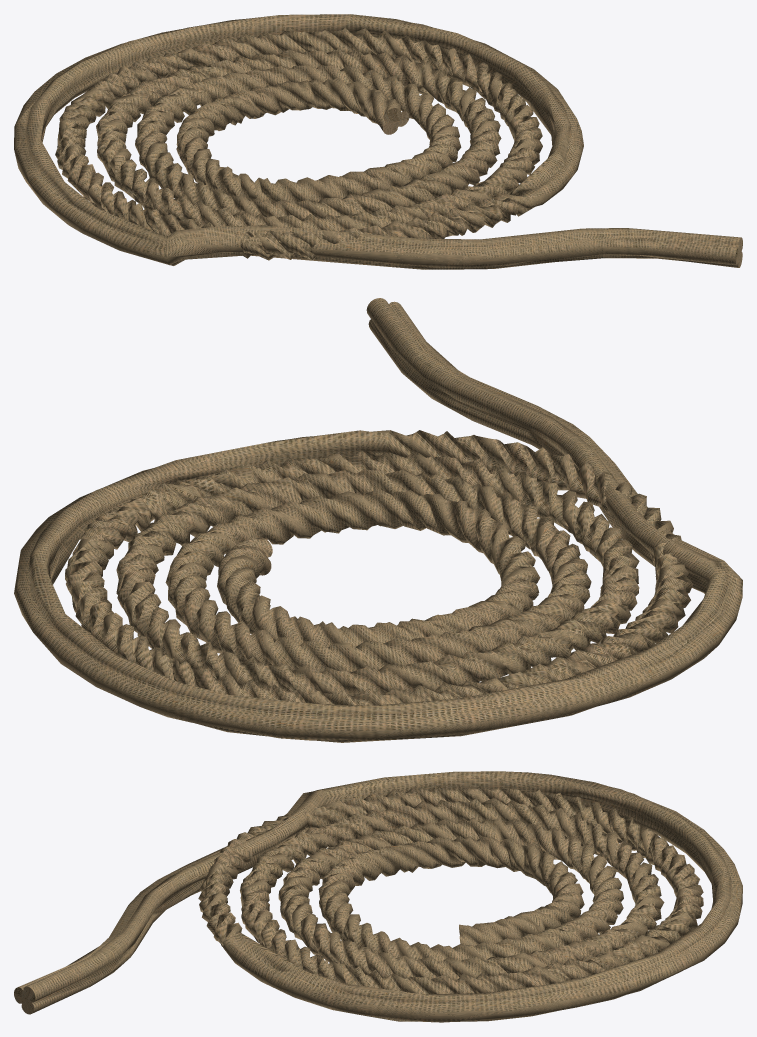
File: rope_coil_procedural.glb
3 views of the same model, one above another, from view 1: azimuth 30°, elevation 25°; view 2: azimuth 150°, elevation 25°; view 3: azimuth 270°, elevation 25° (orthographic). The views are drawn at different scales.
Parts seen in each view (by area): view 1: rope_coil; view 2: rope_coil; view 3: rope_coil.
Part boxes in pixels (x1,y1,x2,y2): rope_coil: (14, 14, 742, 269); rope_coil: (14, 298, 742, 742); rope_coil: (14, 771, 742, 1022).
Bounding box in the file's own units: 0.9265 × 0.0703 × 1.19.
1 material, 1 textured.
